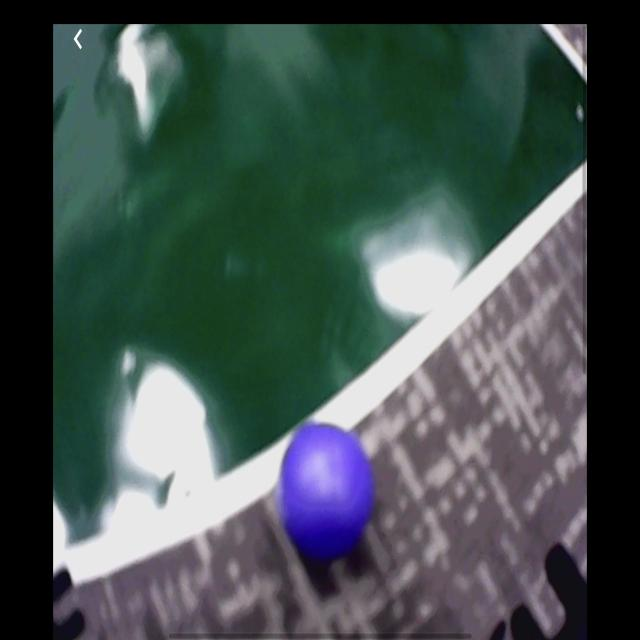ball: (280, 427, 371, 563)
